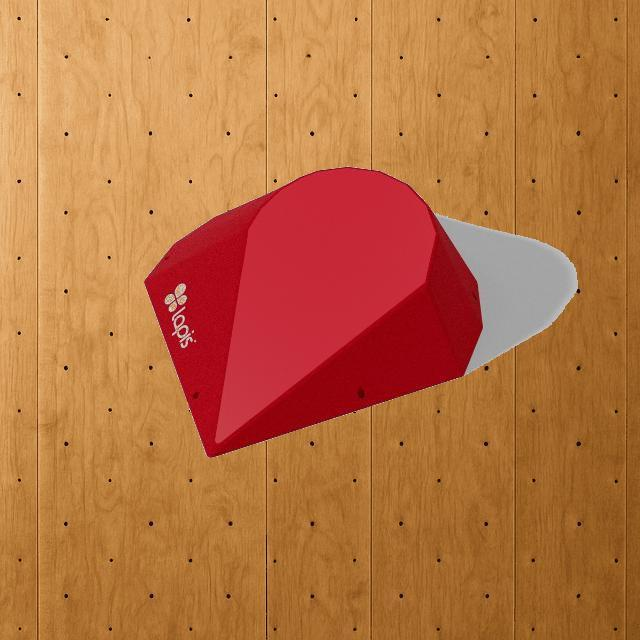Volume: (143, 164, 483, 456)
